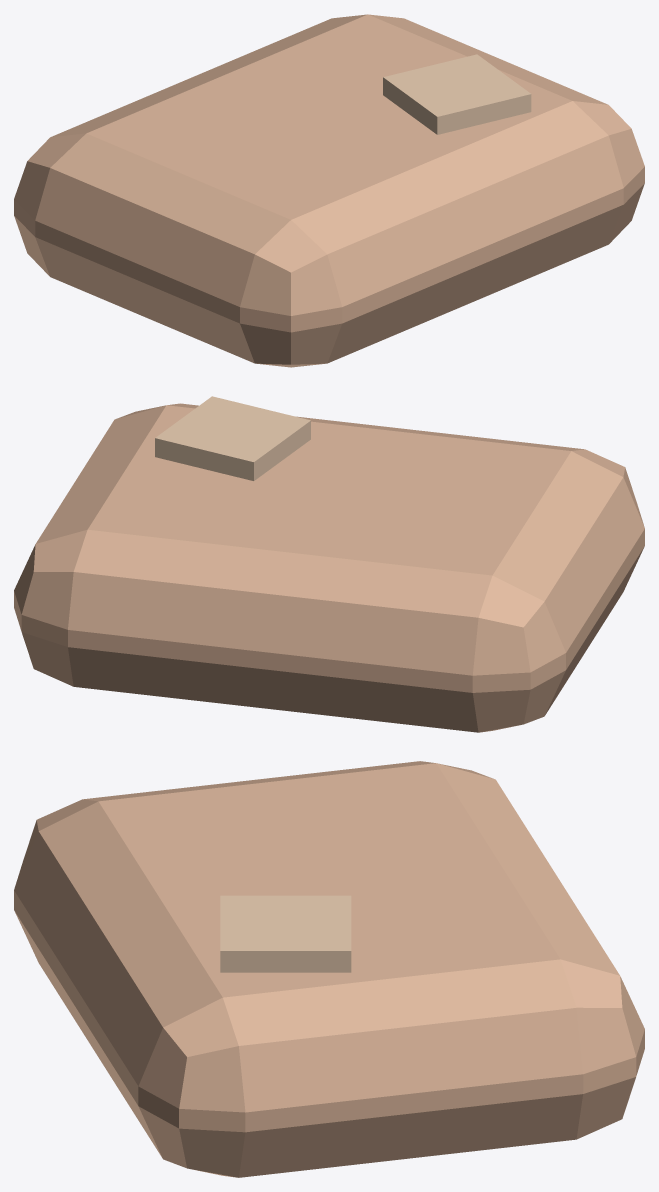
The model's file is cooked_pork_held.gltf.
3 views of the same model, one above another, from view 1: azimuth 30°, elevation 25°; view 2: azimuth 150°, elevation 25°; view 3: azimuth 270°, elevation 25° (orthographic). The views are drawn at different scales.
Visible parts, largest first — view 1: animals_cooked_pork_held; view 2: animals_cooked_pork_held; view 3: animals_cooked_pork_held.
Boxes of the visible parts, left/top/right/bottom form: animals_cooked_pork_held: left=14, top=14, right=644, bottom=367; animals_cooked_pork_held: left=14, top=396, right=644, bottom=732; animals_cooked_pork_held: left=14, top=761, right=644, bottom=1177.
Size of the model in its own units: 0.1656 by 0.0505 by 0.1444.
